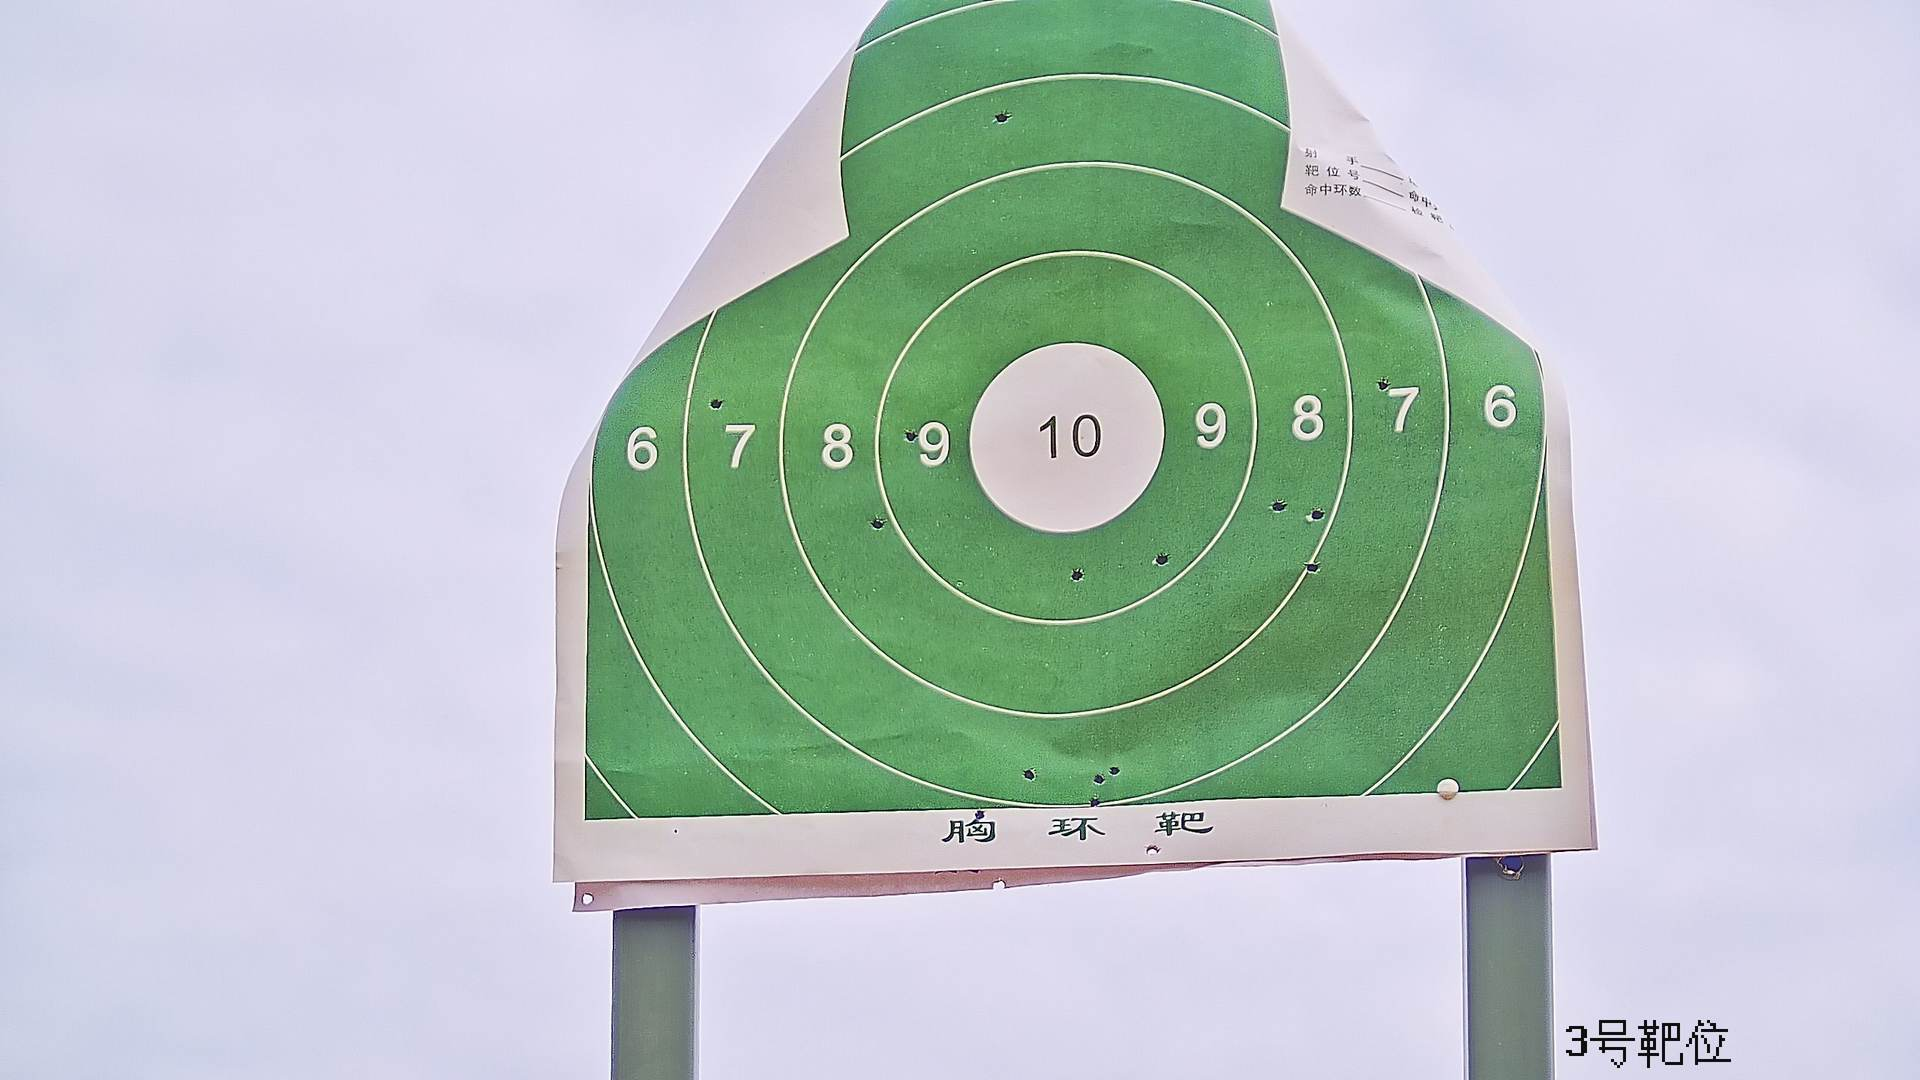hole: (1305, 559, 1321, 578), (1068, 567, 1084, 583), (1307, 508, 1325, 520), (902, 427, 916, 440), (1270, 498, 1284, 512), (1377, 377, 1389, 392), (1023, 769, 1038, 781), (1155, 553, 1168, 564), (973, 807, 986, 819), (993, 112, 1007, 123), (1091, 771, 1105, 782), (1145, 844, 1159, 855), (711, 397, 723, 409), (870, 518, 884, 529), (1089, 796, 1098, 807), (1110, 766, 1120, 774)
kernel: (1062, 436, 1071, 442)
target: (582, 7, 1565, 814)
ten: (964, 342, 1164, 535)
